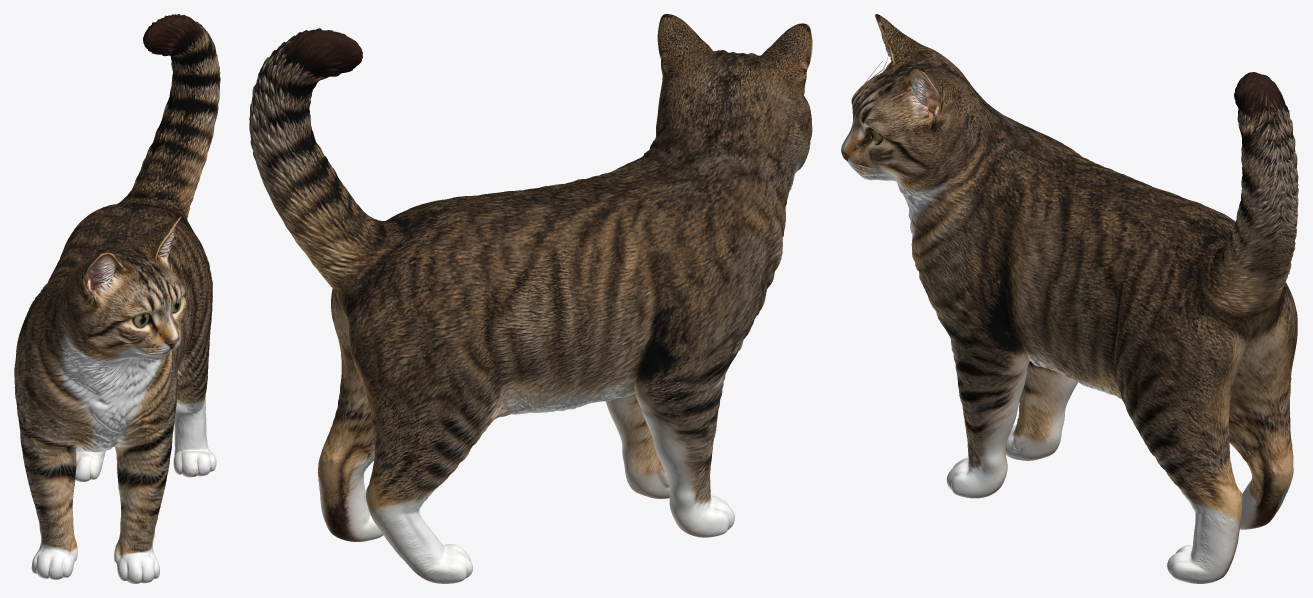
File: tabby-cat.glb
3 views of the same model, side by side, from view 1: azimuth 30°, elevation 25°; view 2: azimuth 150°, elevation 25°; view 3: azimuth 270°, elevation 25° (orthographic). The views are drawn at different scales.
Visible parts, largest first — view 1: cat; view 2: cat; view 3: cat.
Boxes of the visible parts, x1,y1,x2,y2 form: cat: (14, 14, 220, 583); cat: (249, 14, 812, 583); cat: (841, 14, 1298, 583).
Bounding box in the file's own units: 0.3735 × 0.5 × 0.4146.
1 material, 1 textured.
